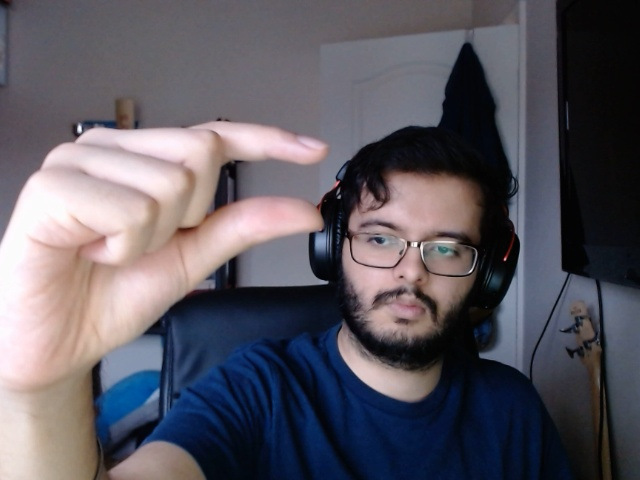Small: (1, 108, 344, 399)
